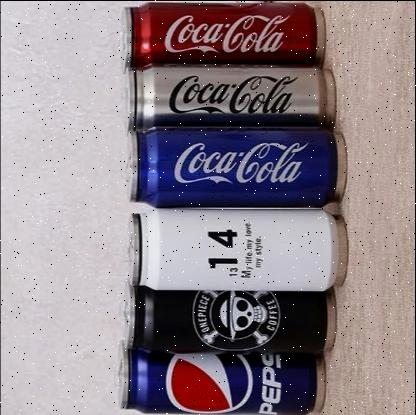Can: (122, 123, 348, 208), (123, 206, 348, 291), (119, 280, 336, 354), (112, 343, 325, 415), (124, 60, 336, 130), (118, 0, 328, 68)
